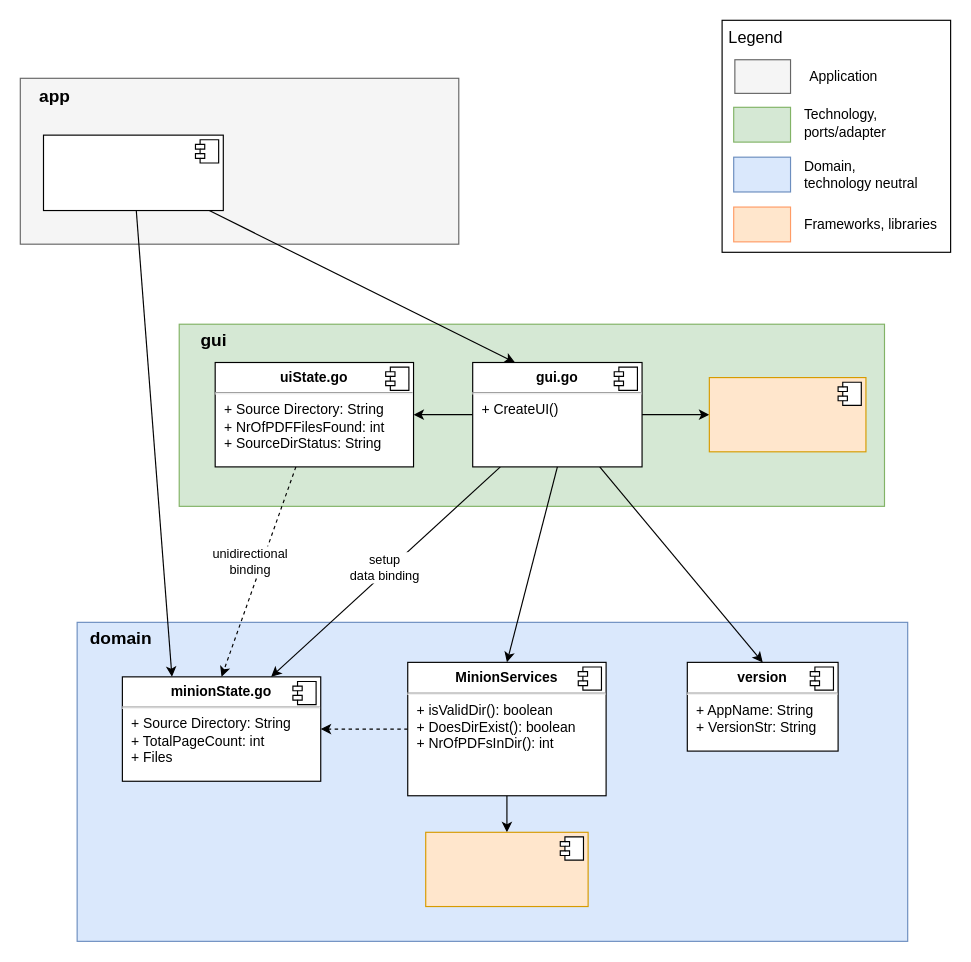
The diagram is 971 pixels wide and 962 high, and some of its shapes have lost their labels. The centre of each missing label's shape, as x and y in pixels:
Fyne (open source library): [787,414]
PDFcpu (open source library): [506,869]
PDFMinion App + main(): [132,172]
